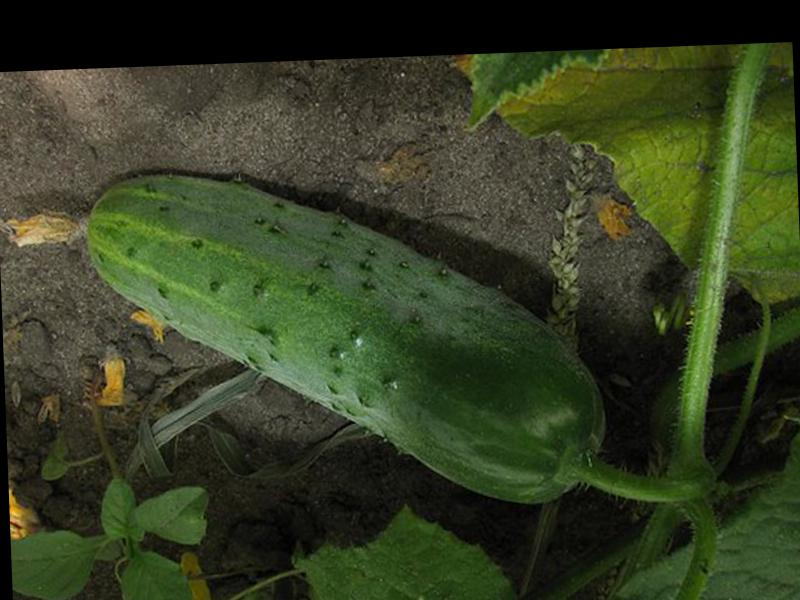Cucumber: (4, 154, 607, 522)
